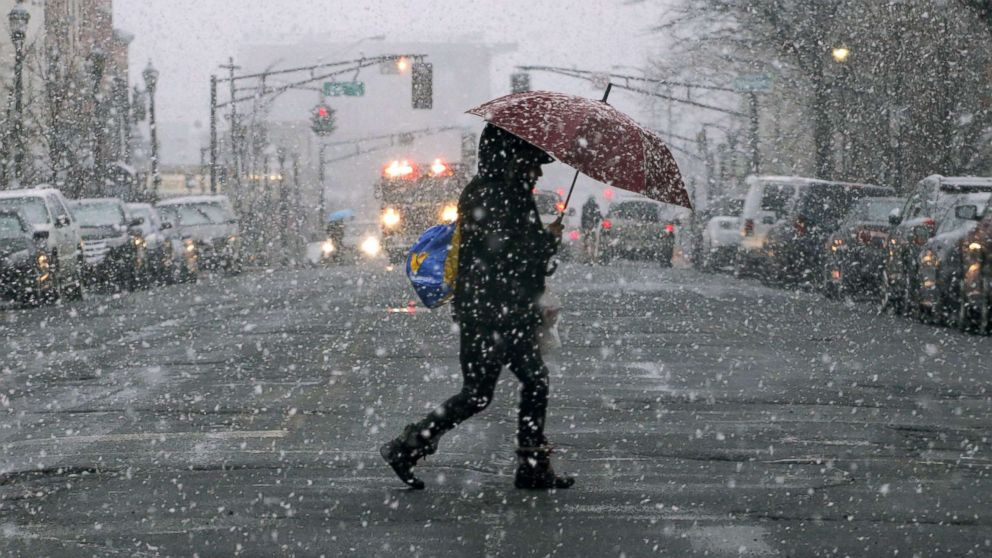bus: (371, 160, 468, 253)
car: (598, 200, 678, 264)
person: (404, 123, 568, 503)
